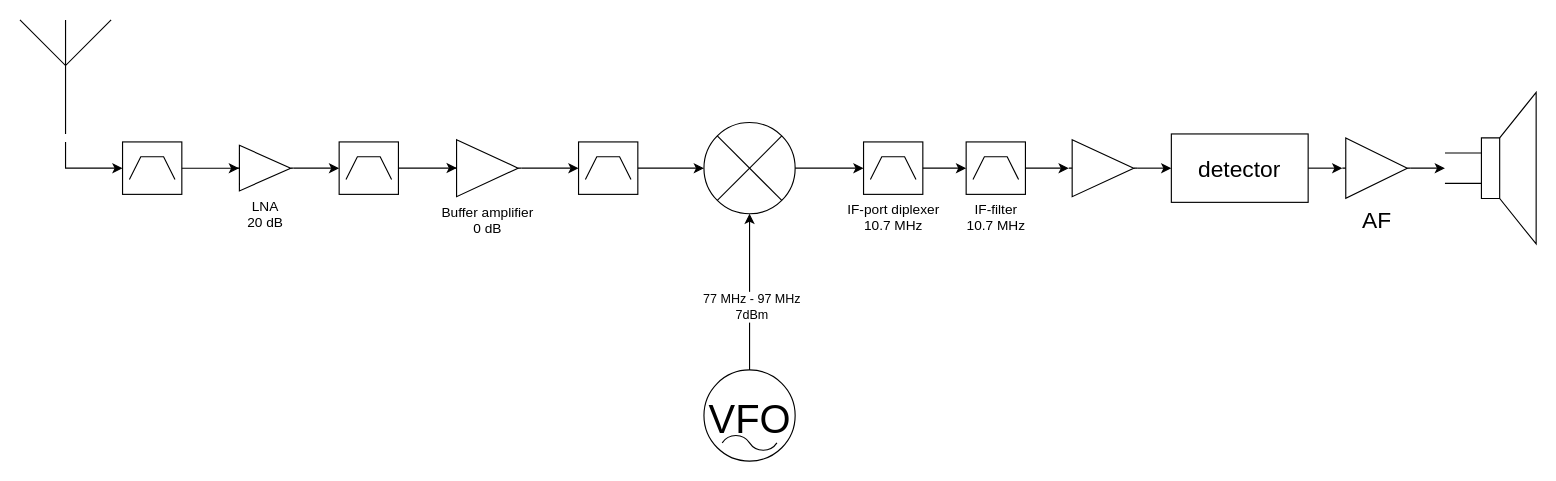
Image size: 1556x481. Some labels were removed from this diagram. Each missing label, with the centre of its shape:
Image filter 88 MHz - 108 MHz: the point at 368,167
Preselect filter 88 MHz - 108 MHz: the point at 151,167
RF-port diplexer 88 MHz - 108 MHz: the point at 607,167
